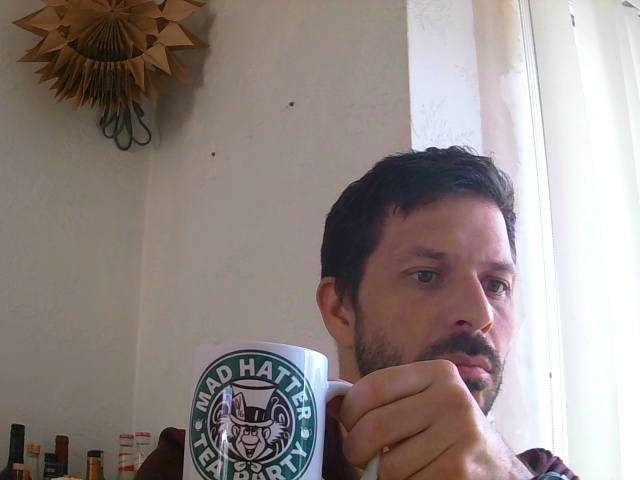mug: (180, 338, 329, 480)
